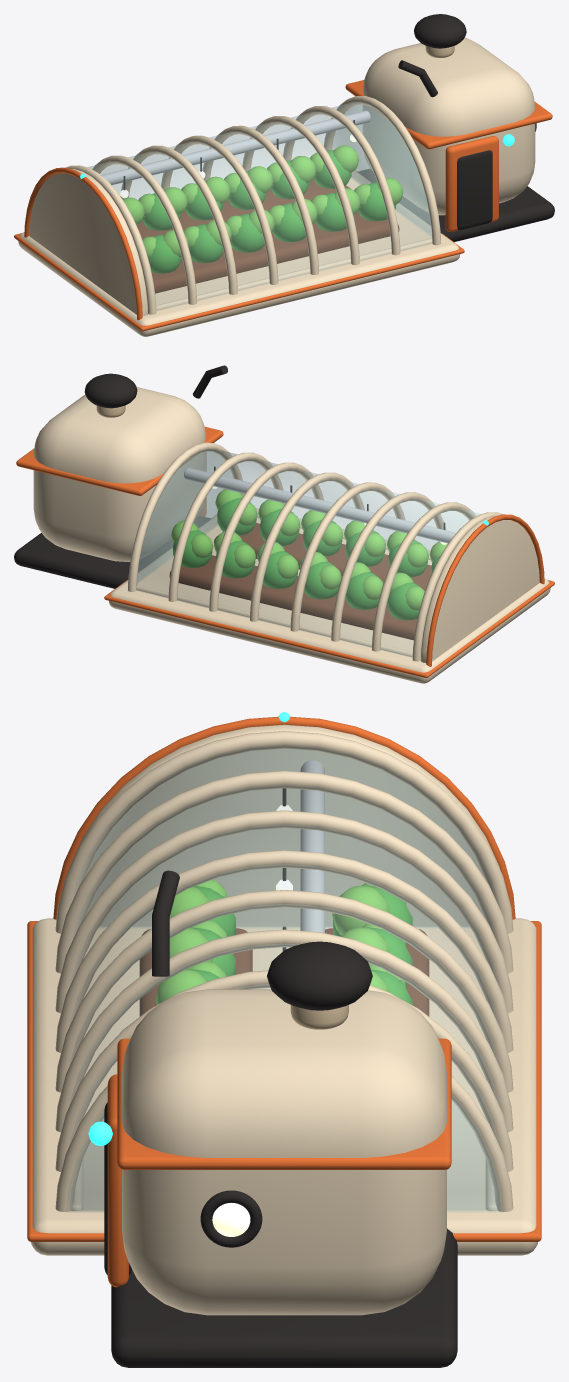
The model's file is greenhouse-10i.glb.
3 views of the same model, one above another, from view 1: azimuth 30°, elevation 25°; view 2: azimuth 150°, elevation 25°; view 3: azimuth 270°, elevation 25° (orthographic). The views are drawn at different scales.
Parts seen in each view (by area): view 1: Cube.001, Cylinder, Cube.002, Sphere.001, Cube.007, Sphere.002, Cube.005, Cylinder.004; view 2: Cube.001, Cylinder, Sphere.002, Sphere.001, Cube.005, Cube.002, Cube.007, Cylinder.004; view 3: Cube.001, Cylinder, Cube.007, Cube.002, Sphere.002, Sphere.001, Cylinder.004, Cube.005, Cube, Cylinder.005.
Part boxes in pixels (x1,y1,x2,y2): Cube.001: (18,38,535,336); Cylinder: (87,102,432,310); Cube.002: (14,80,552,331); Sphere.001: (136,150,395,273); Cube.007: (123,14,554,241); Sphere.002: (123,145,403,257); Cube.005: (137,179,399,293); Cylinder.004: (101,110,370,184); Cube.001: (33,387,550,683); Cylinder: (136,449,480,657); Sphere.002: (171,489,447,610); Sphere.001: (173,498,440,620); Cube.005: (169,523,431,640); Cube.002: (16,426,554,677); Cube.007: (14,365,445,588); Cylinder.004: (184,467,455,543); Cube.001: (31,724,537,1315); Cylinder: (66,745,502,1212); Cube.007: (104,788,457,1367); Cube.002: (27,716,541,1287); Sphere.002: (155,879,406,1004); Sphere.001: (156,885,412,1004); Cylinder.004: (300,760,324,932); Cube.005: (139,928,429,1016); Cube: (290,1005,348,1029); Cylinder.005: (212,1203,250,1236).
Size of the model in its own units: 2.87 by 1.14 by 1.45.
